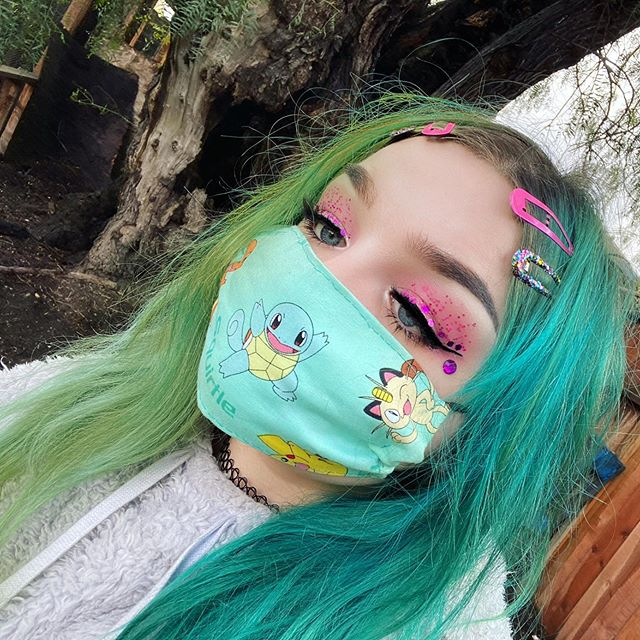homemade: (207, 236, 428, 484)
